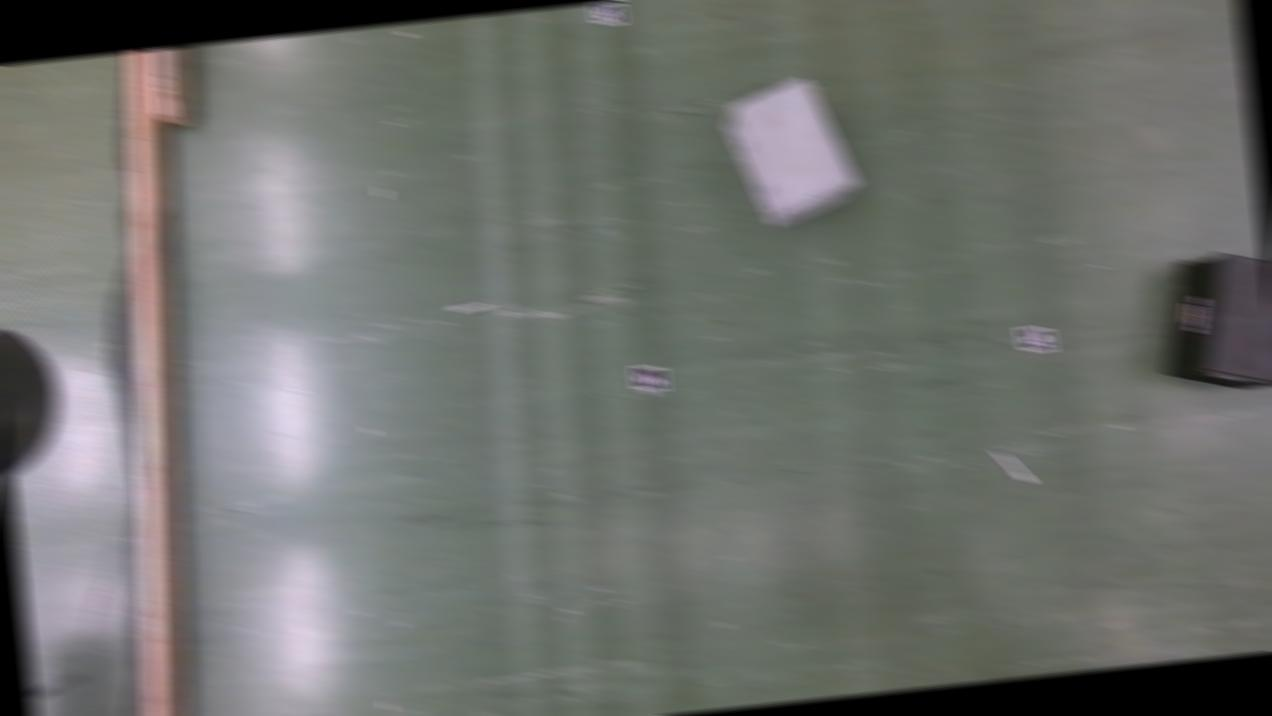probes: (995, 448, 1031, 487)
rako: (719, 74, 862, 233), (1149, 247, 1272, 397)
